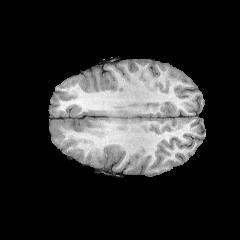glioma: (50, 120, 103, 141)
